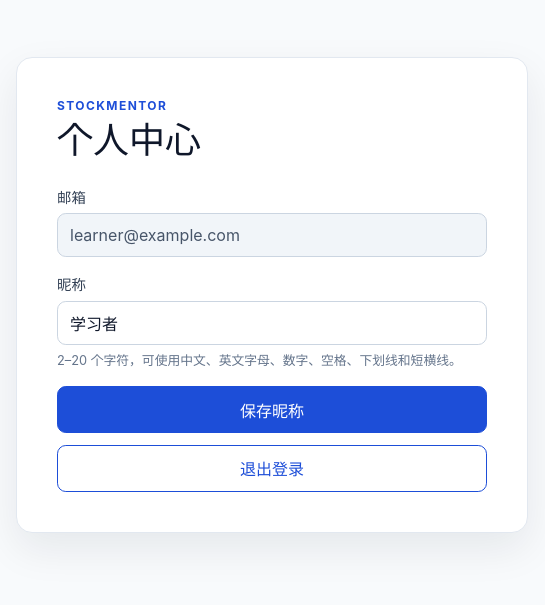
ProfileView › maps an invalid nickname code to the approved public rule without raw details
The width and height of the screenshot is (545, 605).
Replace the text in the field labelled "昵称" with "长期学习者". click: (272, 323)
box: [57, 301, 487, 345]
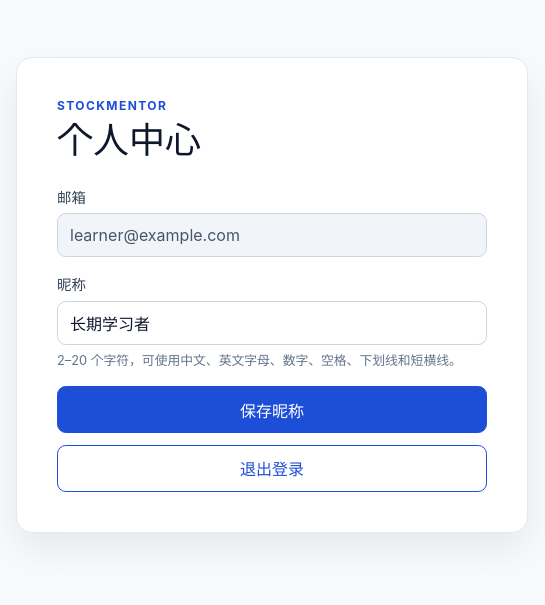
Submit the form, box [57, 186, 487, 433]
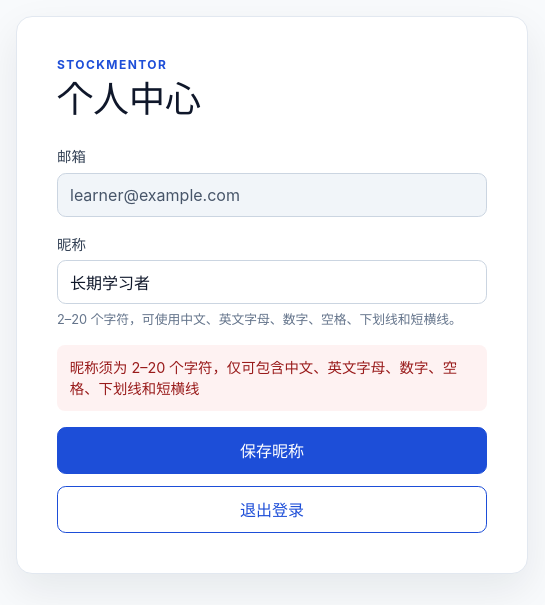
expect the message "昵称须为 2–20 个字符，仅可包含中文、英文字母、数字、空格、下划线和短横线" is shown: met, box [57, 346, 487, 411]
